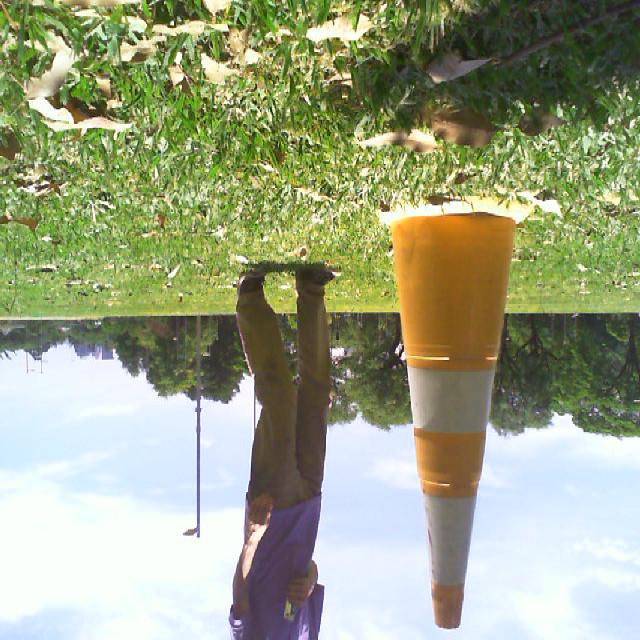cone: (384, 202, 532, 630)
